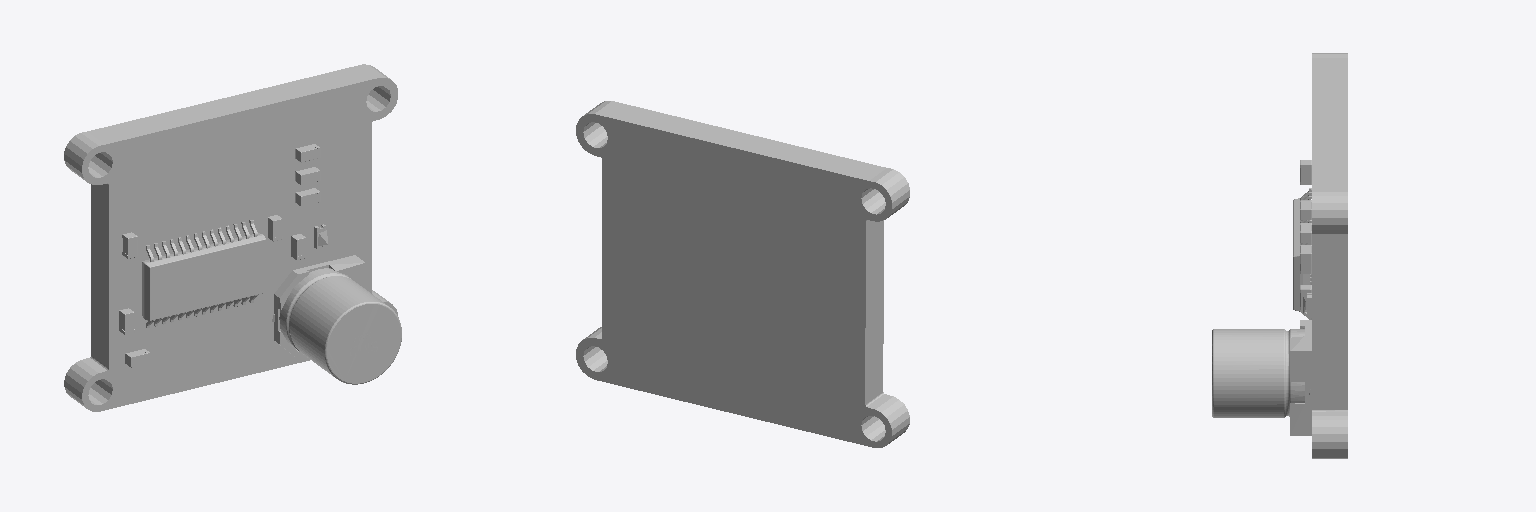
The model's file is OBJ_simplefoc stepmini.obj.
3 renders of one model, left to right at view 1: azimuth 30°, elevation 25°; view 2: azimuth 150°, elevation 25°; view 3: azimuth 270°, elevation 25°, orthographic.
Size of the model in its own units: 101 by 81.43 by 37.56.